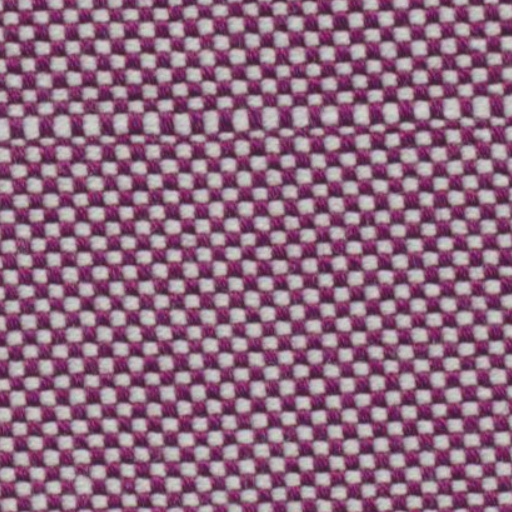TuoSha: (12, 86, 498, 162)
